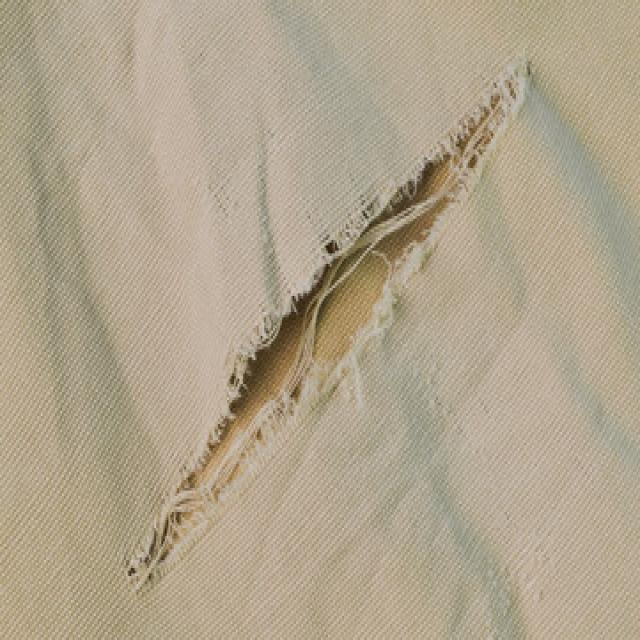Hole: (128, 56, 531, 592)
